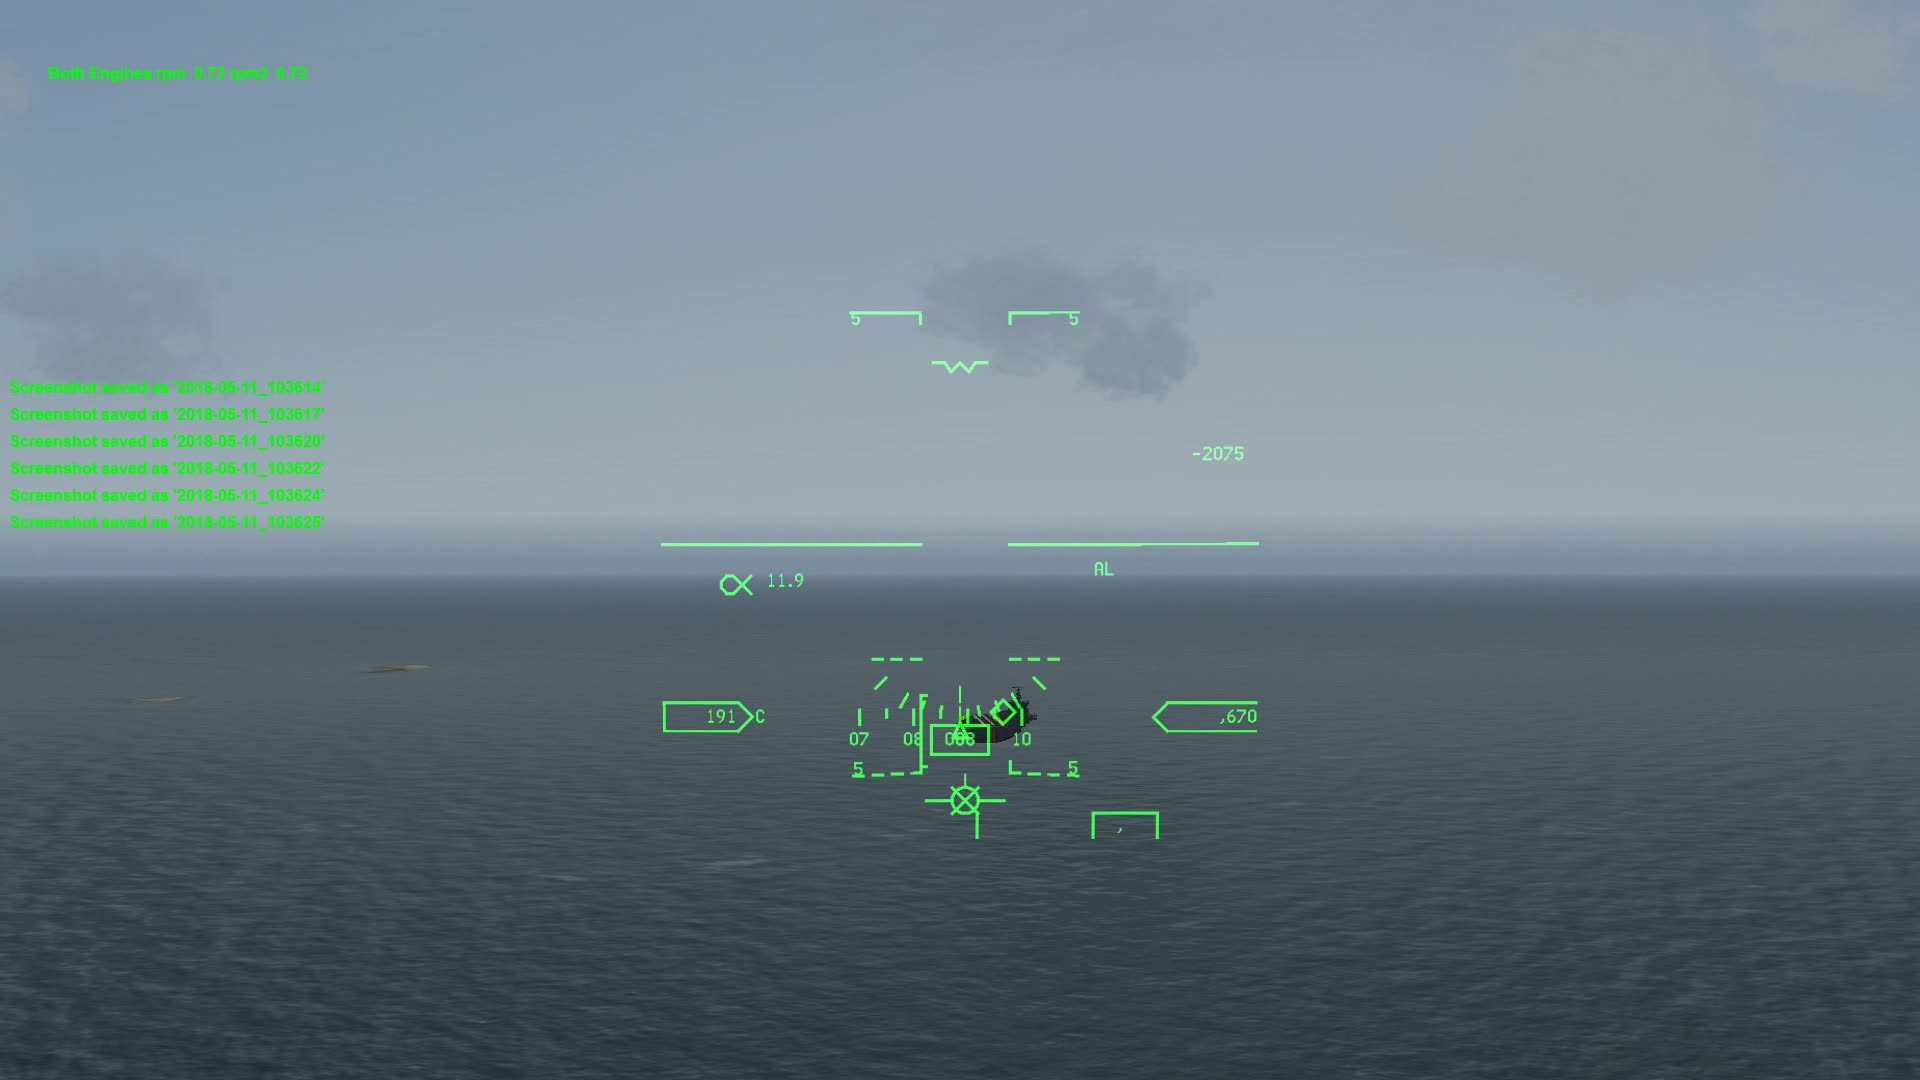speed vector: (916, 783, 1015, 818)
